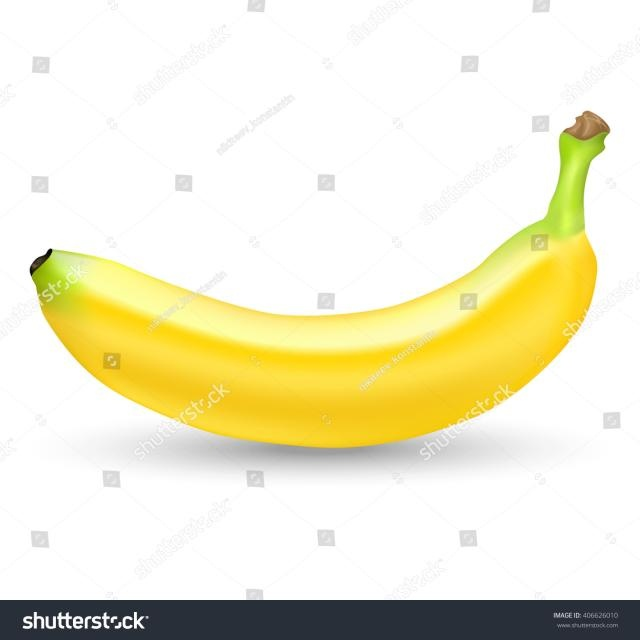agrume: (37, 111, 611, 454)
